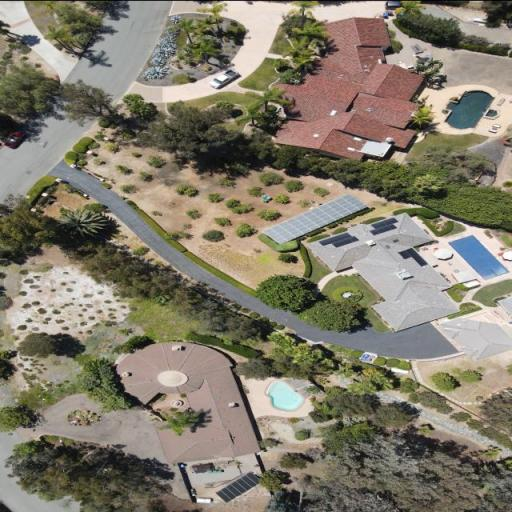solar-panel: (262, 193, 369, 244), (216, 471, 260, 502), (318, 232, 360, 247), (398, 247, 428, 266), (369, 217, 399, 235)
